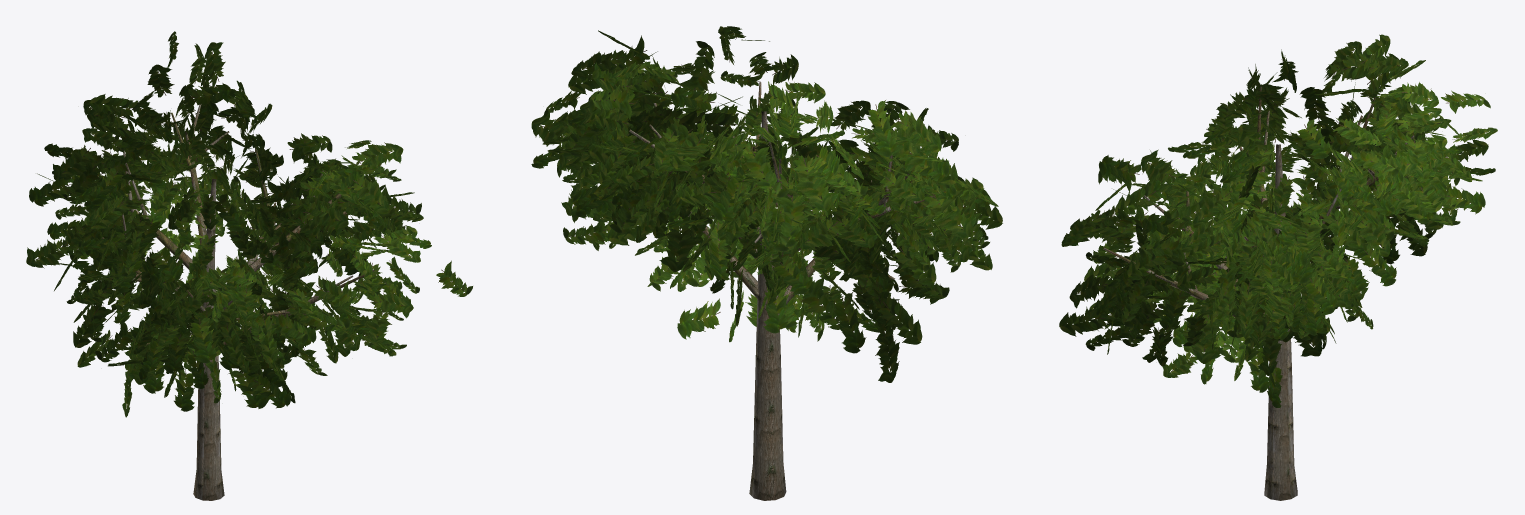
File: tree_1.glb
The picture shows the model from 3 angles, left to right: view 1: azimuth 30°, elevation 25°; view 2: azimuth 150°, elevation 25°; view 3: azimuth 270°, elevation 25°; orthographic projection. The views are drawn at different scales.
Visible parts, largest first — view 1: Tree; view 2: Tree; view 3: Tree.
Boxes of the visible parts, x1=… form: Tree: x1=26, y1=31, x2=472, y2=500; Tree: x1=531, y1=26, x2=1002, y2=500; Tree: x1=1059, y1=34, x2=1497, y2=500.
Size of the model in its own units: 9.97 by 9.55 by 9.02.
Materials: 2 (2 with a texture image).
